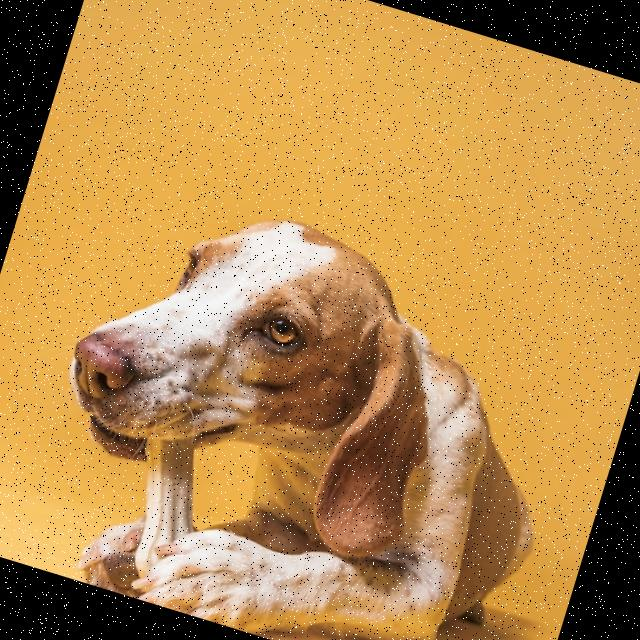Dog: (10, 171, 604, 640)
